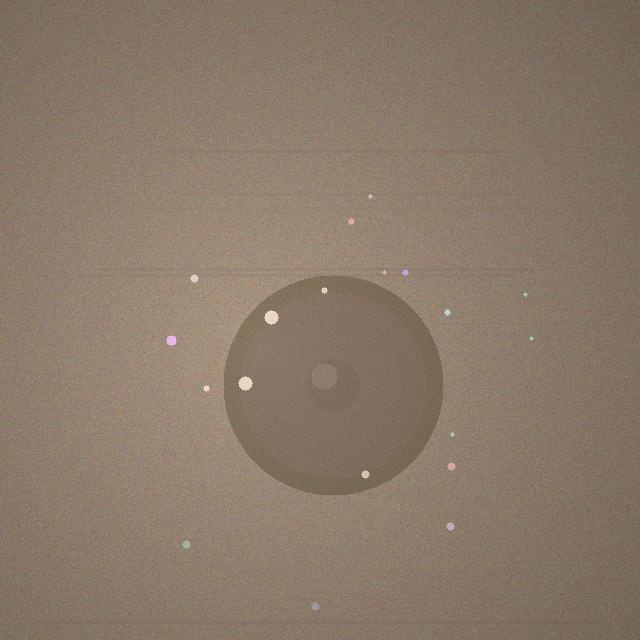overburn: (223, 275, 443, 495)
